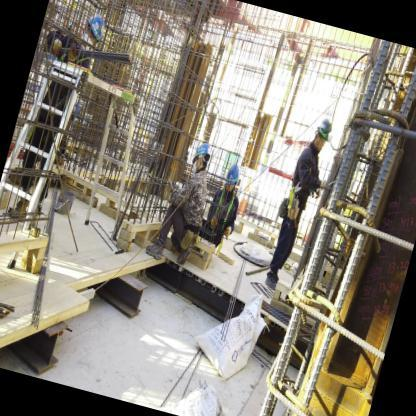safety-shoe: (140, 233, 167, 263), (173, 237, 195, 273), (259, 269, 285, 297)
